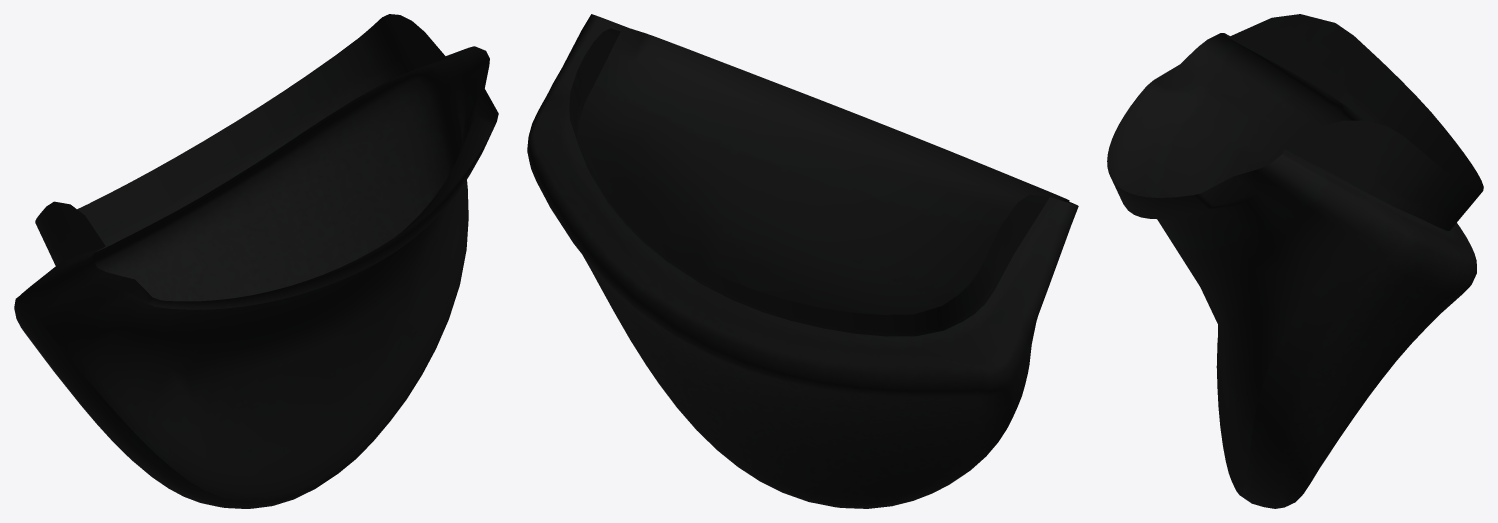
File: frame_controller_right_trigger.obj
3 renders of one model, left to right at view 1: azimuth 30°, elevation 25°; view 2: azimuth 150°, elevation 25°; view 3: azimuth 270°, elevation 25°, orthographic. The views are drawn at different scales.
Visible parts, largest first — view 1: frame_controller_right_trigger; view 2: frame_controller_right_trigger; view 3: frame_controller_right_trigger.
Boxes of the visible parts, box(x1,y1,x2,y2) form: frame_controller_right_trigger: box(14, 14, 498, 508); frame_controller_right_trigger: box(527, 14, 1078, 508); frame_controller_right_trigger: box(1107, 14, 1483, 508).
Bounding box in the file's own units: 0.0322 × 0.0295 × 0.0216.
1 material, 1 textured.
